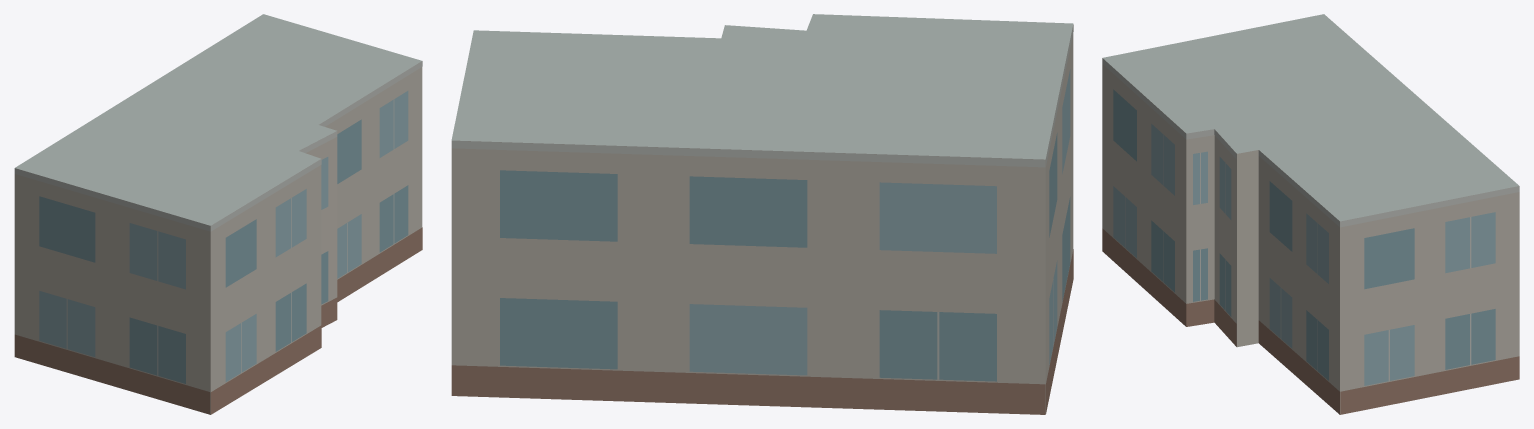
Rendered from survey-upis-32964074.glb.
3 views of the same model, side by side, from view 1: azimuth 30°, elevation 25°; view 2: azimuth 150°, elevation 25°; view 3: azimuth 270°, elevation 25° (orthographic). The views are drawn at different scales.
Parts seen in each view (by area): view 1: survey-upis-32964074.tmp; view 2: survey-upis-32964074.tmp; view 3: survey-upis-32964074.tmp.
Boxes of the visible parts, box(x1,y1,x2,y2) form: survey-upis-32964074.tmp: box(14, 14, 422, 414); survey-upis-32964074.tmp: box(451, 14, 1073, 414); survey-upis-32964074.tmp: box(1102, 14, 1519, 414).
Size of the model in its own units: 18.19 by 7.9 by 15.46.
